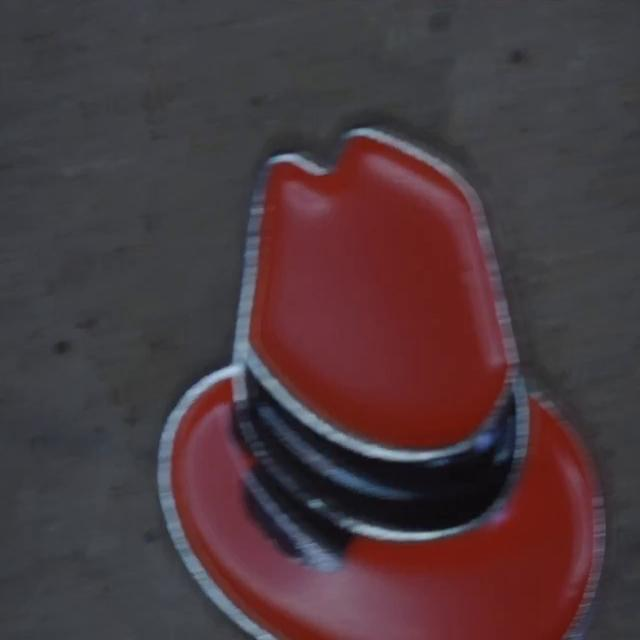Hatband: (235, 371, 515, 534)
Paint_Leak: (245, 464, 346, 570)
RedHatPin: (158, 129, 605, 637)
